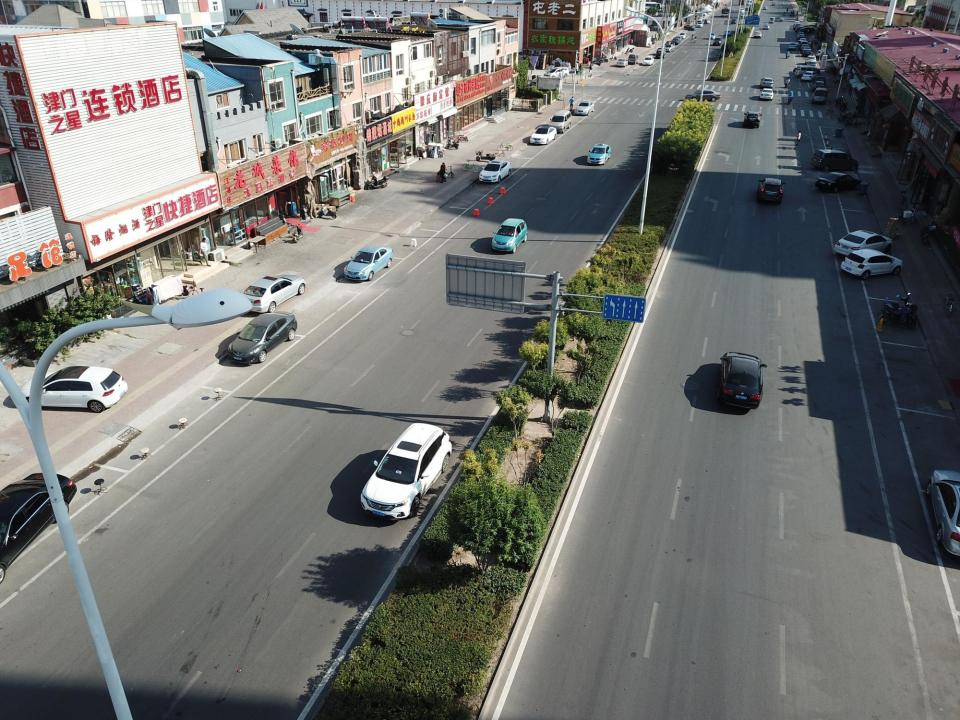bus: (720, 5, 730, 17)
car: (358, 417, 453, 522), (1, 463, 79, 574), (28, 362, 127, 411), (222, 309, 298, 362), (922, 471, 960, 561), (236, 270, 308, 314), (721, 350, 768, 408), (839, 250, 906, 278), (340, 246, 394, 279), (831, 228, 895, 253), (813, 148, 860, 172), (815, 172, 864, 191), (479, 158, 511, 183), (758, 176, 786, 201), (685, 90, 723, 102), (544, 66, 571, 78), (576, 100, 595, 116), (744, 110, 762, 126), (761, 87, 775, 100), (800, 71, 818, 80), (795, 26, 815, 34), (760, 76, 774, 86), (656, 46, 668, 57), (814, 79, 825, 91), (615, 57, 628, 67), (628, 53, 638, 66), (805, 55, 818, 65), (643, 55, 654, 66), (666, 42, 675, 54), (789, 41, 798, 50), (684, 25, 696, 31), (773, 16, 784, 22), (803, 50, 814, 56), (754, 30, 762, 38), (713, 37, 721, 44), (800, 41, 808, 48), (794, 20, 802, 27), (673, 36, 680, 44), (680, 32, 687, 40), (796, 34, 805, 40), (800, 38, 807, 45), (708, 32, 716, 38), (796, 32, 804, 38), (676, 34, 682, 42), (704, 18, 712, 24), (794, 24, 801, 30), (794, 23, 801, 29), (740, 12, 747, 18), (803, 46, 811, 51), (746, 0, 754, 5), (764, 23, 770, 29), (724, 29, 730, 35), (696, 22, 703, 27), (763, 4, 768, 10), (731, 18, 736, 24), (730, 7, 736, 12), (771, 1, 776, 6), (738, 8, 744, 12)
van: (550, 110, 572, 132), (795, 65, 821, 77), (812, 86, 828, 103), (769, 17, 775, 23)
